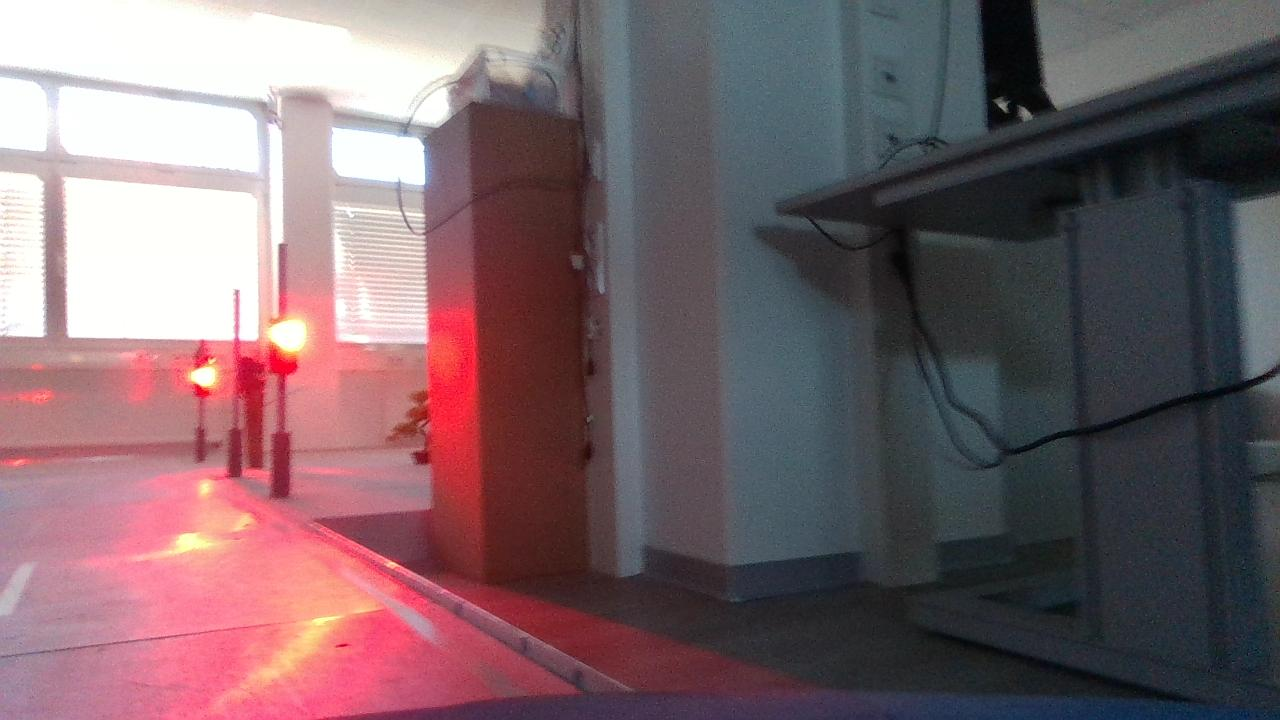traffic_light_red: (257, 314, 312, 385)
